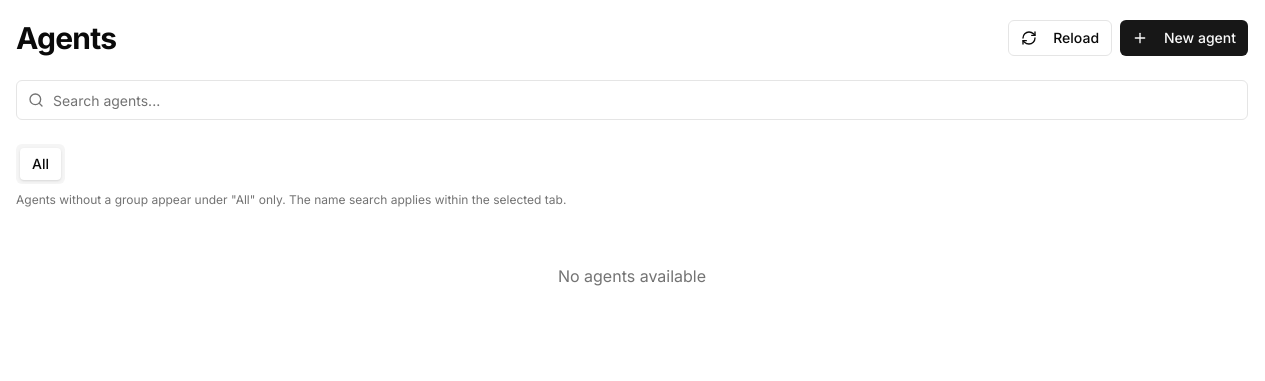
Test: AgentsPage reload result › shows no change list for a no-op reload and can be dismissed
Click the button "Reload".
click(1060, 38)  # box [1008,20,1112,56]
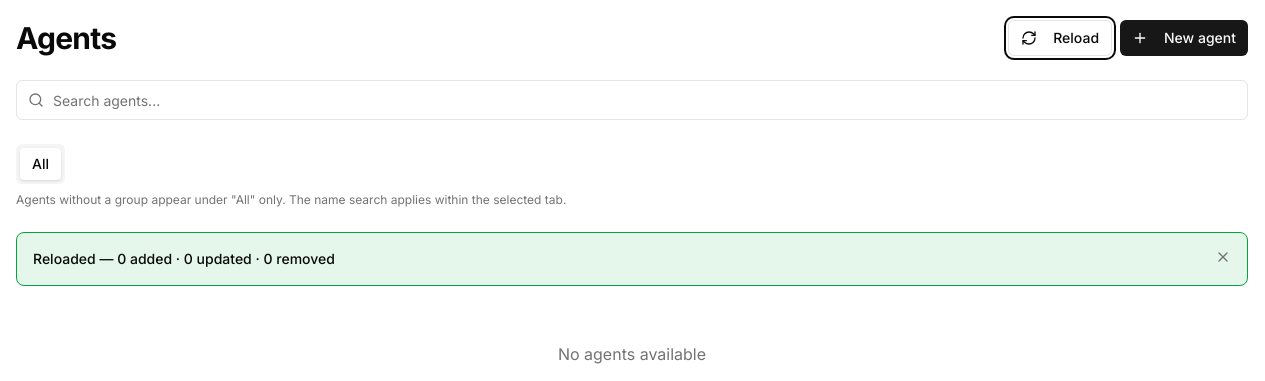
Click the 3rd button.
click(1223, 257)  # box [1215,249,1231,265]
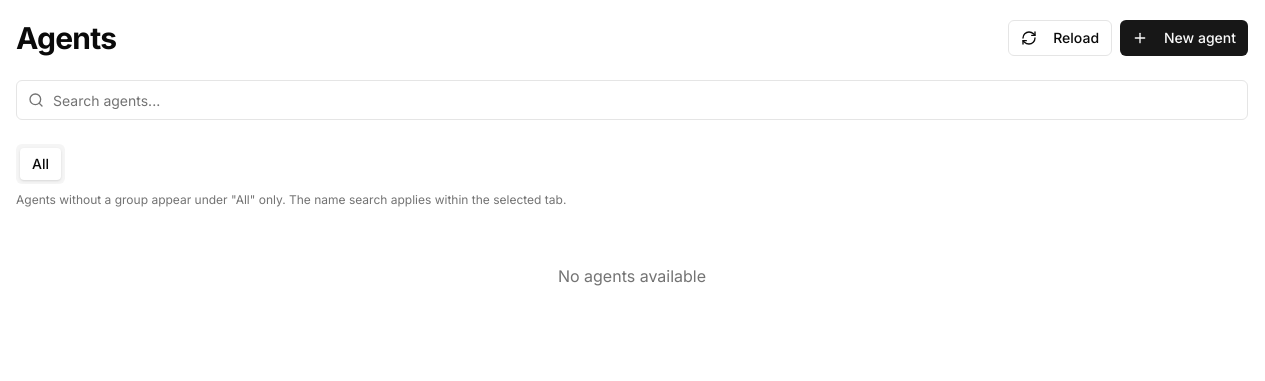
Expected: the text "Reloaded —" is gone
